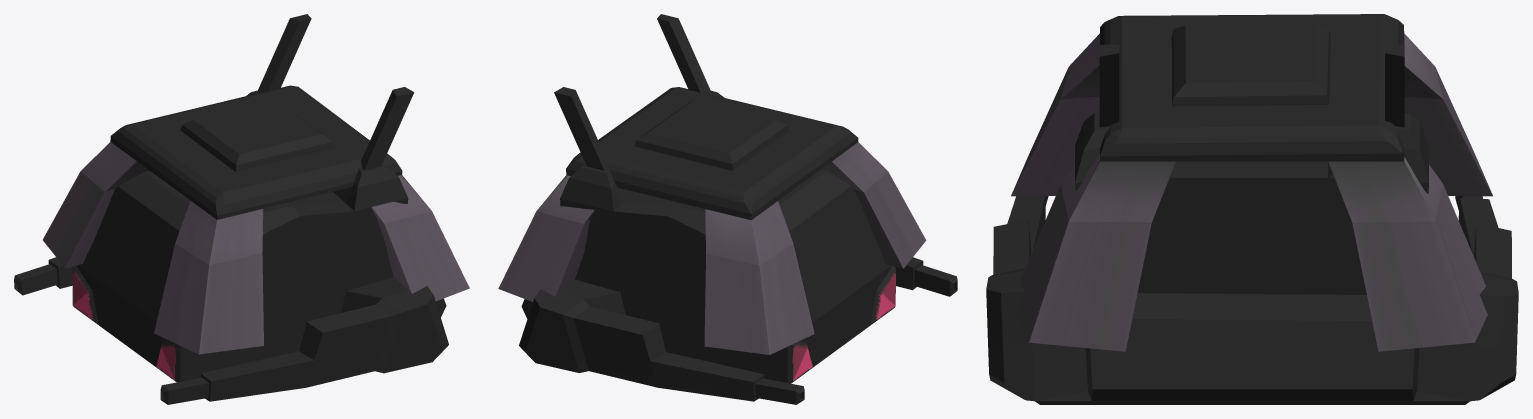
The model's file is enemy_lvl0.glb.
3 views of the same model, side by side, from view 1: azimuth 30°, elevation 25°; view 2: azimuth 150°, elevation 25°; view 3: azimuth 270°, elevation 25° (orthographic). The views are drawn at different scales.
Parts seen in each view (by area): view 1: Cube, Cube.001; view 2: Cube, Cube.001; view 3: Cube.001, Cube.
Part boxes in pixels (x1,y1,x2,y2): Cube: (14, 14, 448, 404); Cube.001: (43, 85, 469, 354); Cube: (519, 14, 957, 404); Cube.001: (498, 87, 926, 354); Cube.001: (1011, 14, 1492, 351); Cube: (986, 44, 1518, 404).
Bounding box in the file's own units: 49.69 × 36.85 × 51.03.
Materials: 1 (1 with a texture image).
